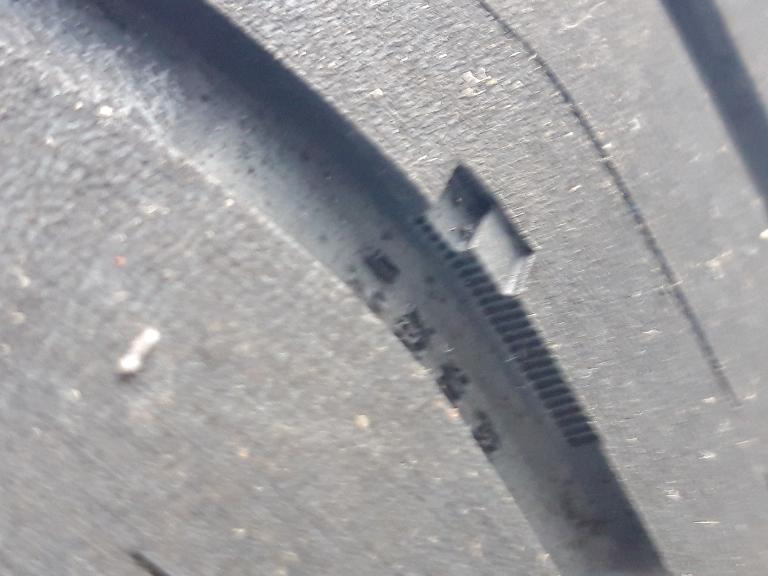temoin:25: (400, 155, 553, 325)
